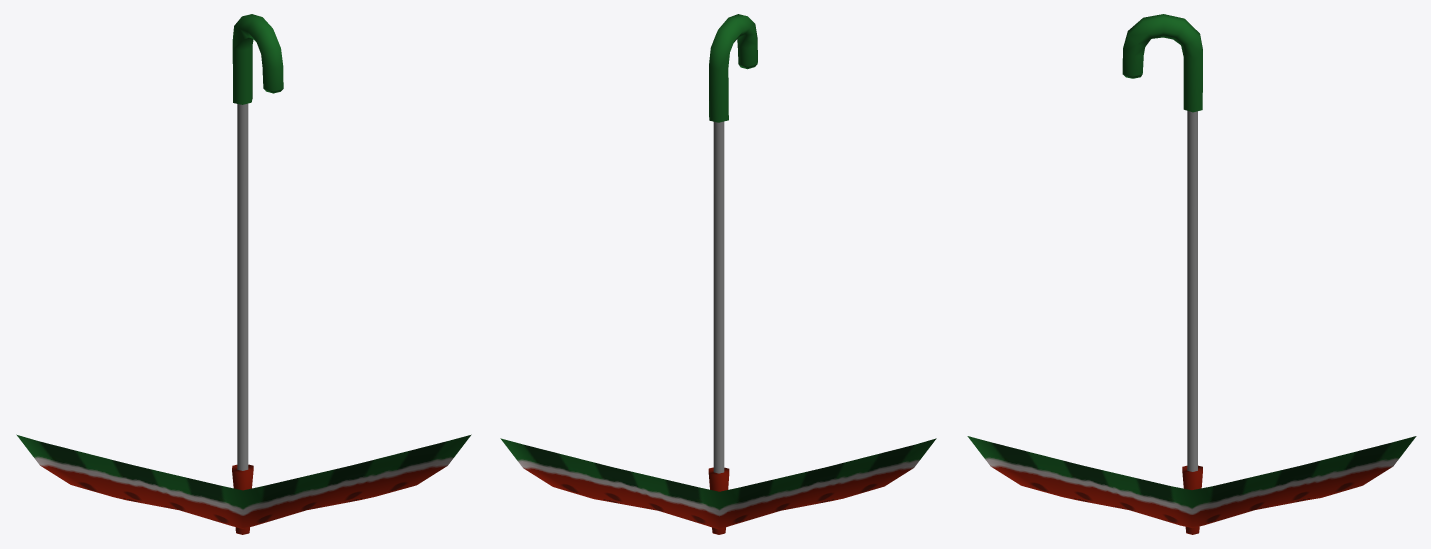
The model's file is UmbrellaWater0.glb.
3 renders of one model, left to right at view 1: azimuth 30°, elevation 25°; view 2: azimuth 150°, elevation 25°; view 3: azimuth 270°, elevation 25°, orthographic. The views are drawn at different scales.
Visible parts, largest first — view 1: Pole__mUmbrella; view 2: Pole__mUmbrella; view 3: Pole__mUmbrella.
Boxes of the visible parts, bbox=[...] form: Pole__mUmbrella: bbox=[16, 14, 471, 534]; Pole__mUmbrella: bbox=[500, 14, 936, 534]; Pole__mUmbrella: bbox=[967, 14, 1416, 534].
Size of the model in its own units: 15.33 by 16.94 by 13.39.
1 material, 1 textured.
